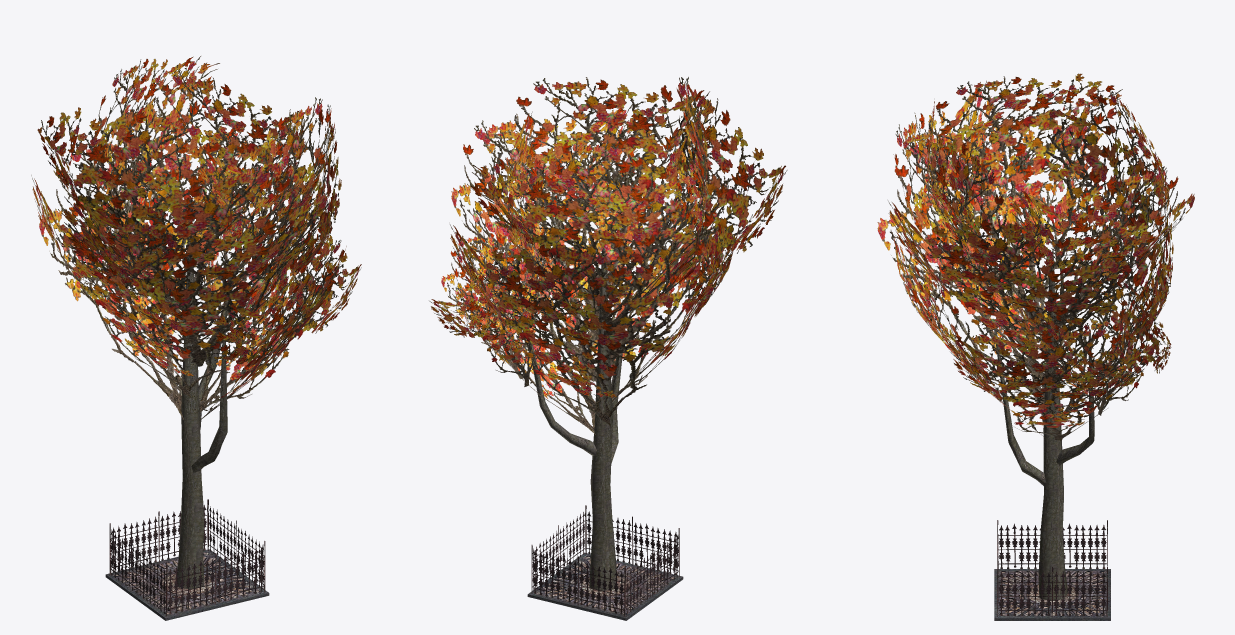
Rendered from tree3a_base_leaves.fbx.
3 renders of one model, left to right at view 1: azimuth 30°, elevation 25°; view 2: azimuth 150°, elevation 25°; view 3: azimuth 270°, elevation 25°, orthographic. The views are drawn at different scales.
Parts seen in each view (by area): view 1: mesh_0, mesh_3, mesh_1, mesh_2; view 2: mesh_0, mesh_3, mesh_1, mesh_2; view 3: mesh_0, mesh_1, mesh_3, mesh_2.
Boxes of the visible parts, box(x1,y1,x2,y2) form: mesh_0: box(31, 56, 361, 420); mesh_3: box(109, 499, 265, 616); mesh_1: box(175, 235, 239, 589); mesh_2: box(105, 549, 269, 620); mesh_0: box(429, 77, 787, 434); mesh_3: box(531, 505, 679, 616); mesh_1: box(520, 248, 627, 591); mesh_2: box(527, 552, 683, 620); mesh_0: box(877, 73, 1194, 440); mesh_1: box(994, 248, 1094, 601); mesh_3: box(997, 520, 1107, 616); mesh_2: box(994, 569, 1110, 620).
Size of the model in its own units: 657 by 1004 by 659.
4 materials, 4 textured.
